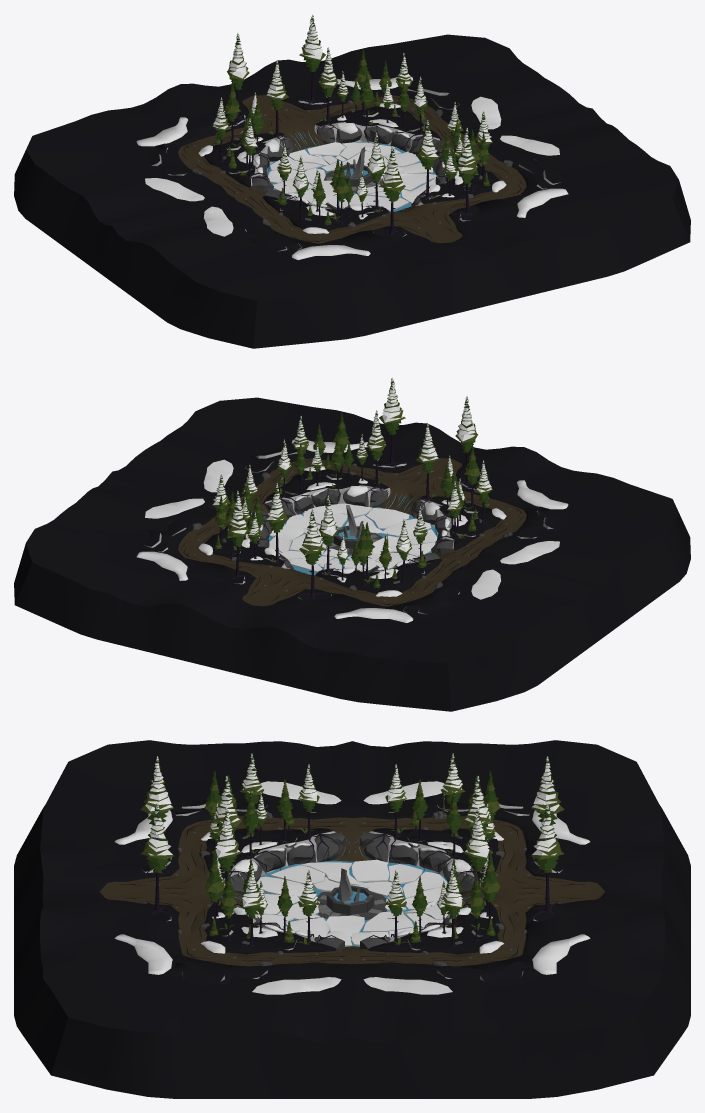
File: Map_03.FBX
3 renders of one model, top to bottom at view 1: azimuth 30°, elevation 25°; view 2: azimuth 150°, elevation 25°; view 3: azimuth 270°, elevation 25°, orthographic. The views are drawn at different scales.
Parts seen in each view (by area): view 1: Map; view 2: Map; view 3: Map.
Part boxes in pixels (box(x1,y1,x2,y2)): Map: box(14, 14, 690, 348); Map: box(14, 377, 690, 711); Map: box(14, 740, 690, 1098).
Bounding box in the file's own units: 1142 × 273 × 1035.
